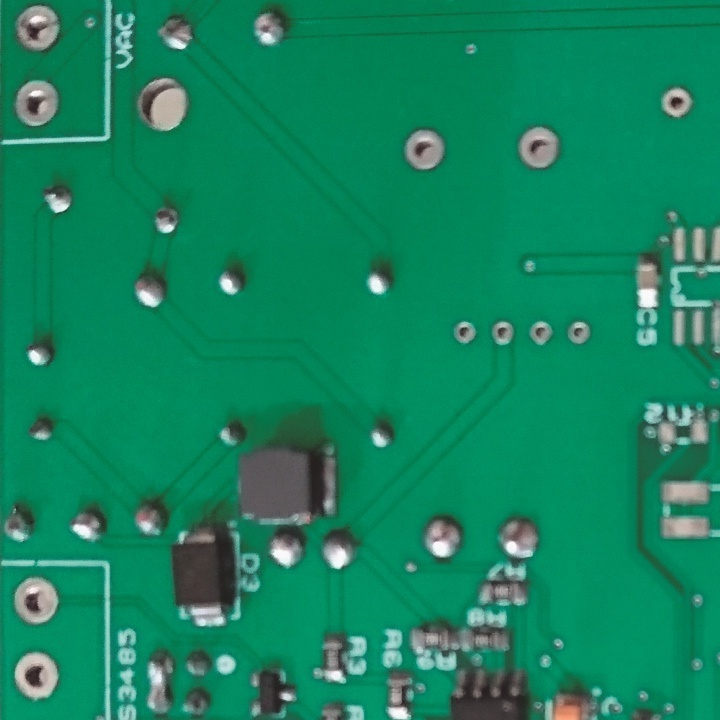F: (12, 79, 62, 131), (14, 5, 64, 55), (11, 578, 61, 627), (15, 649, 60, 702), (516, 125, 562, 172), (403, 128, 446, 171), (658, 86, 691, 120), (489, 320, 516, 349), (565, 319, 591, 347), (451, 320, 476, 346), (530, 320, 552, 347)
